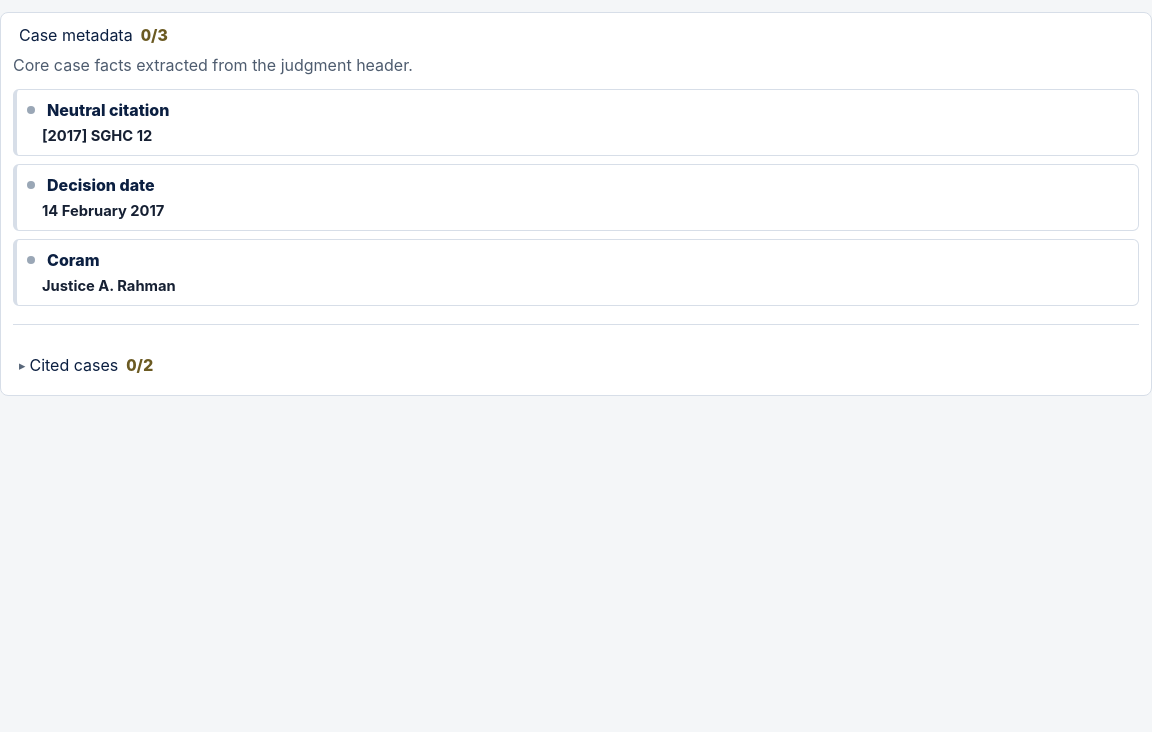
GroupList compact field cards › shows only dot + extracted value on repeatable members (no repeated item label)
Note: Expand the repeatable "Cited cases" group first (collapsed by default with no active member).
Click the button "▸ Cited cases 0/2" at (74, 365), box [13,343,1139,383]
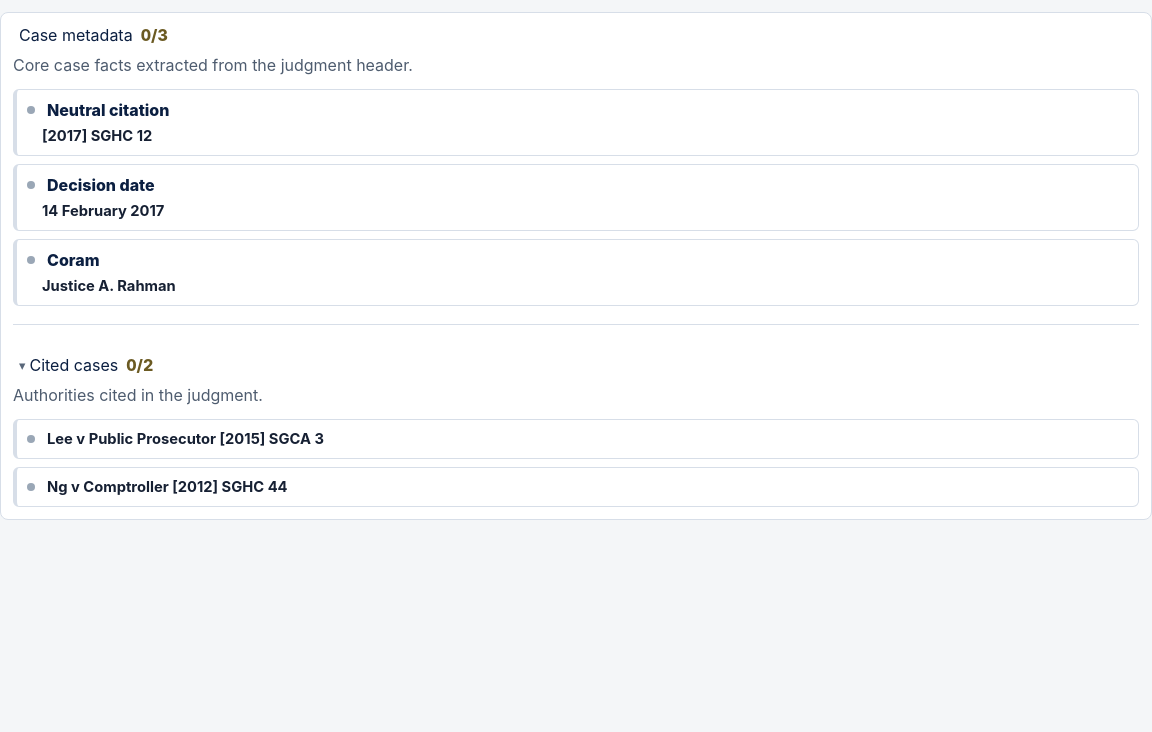
Expected: the button named "Lee v Public Prosecutor [2015] SGCA 3 (Not started)" reads "Lee v Public Prosecutor [2015] SGCA 3", [13,419,1139,459]
Expected: the text "Lee v Public Prosecutor [2015] SGCA 3" is shown, [47,428,324,450]
